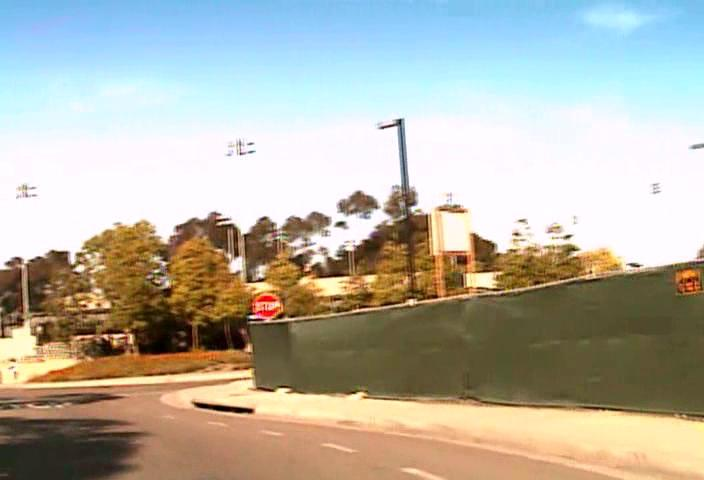stop: (253, 293, 281, 319)
